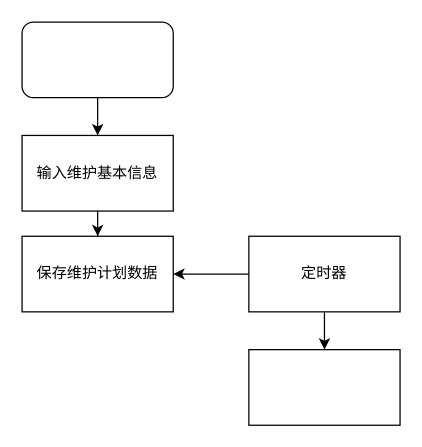
Some shapes in this 422 by 447 pixel diagram are drawn without their labels. The shapes that lost their labels are listed below. From the top down, each one's box as (x1, y1, x2, y2) in pixels, then its label:
(21, 21, 173, 98): 选择维护模块
(248, 348, 400, 425): 生成维护任务数据
